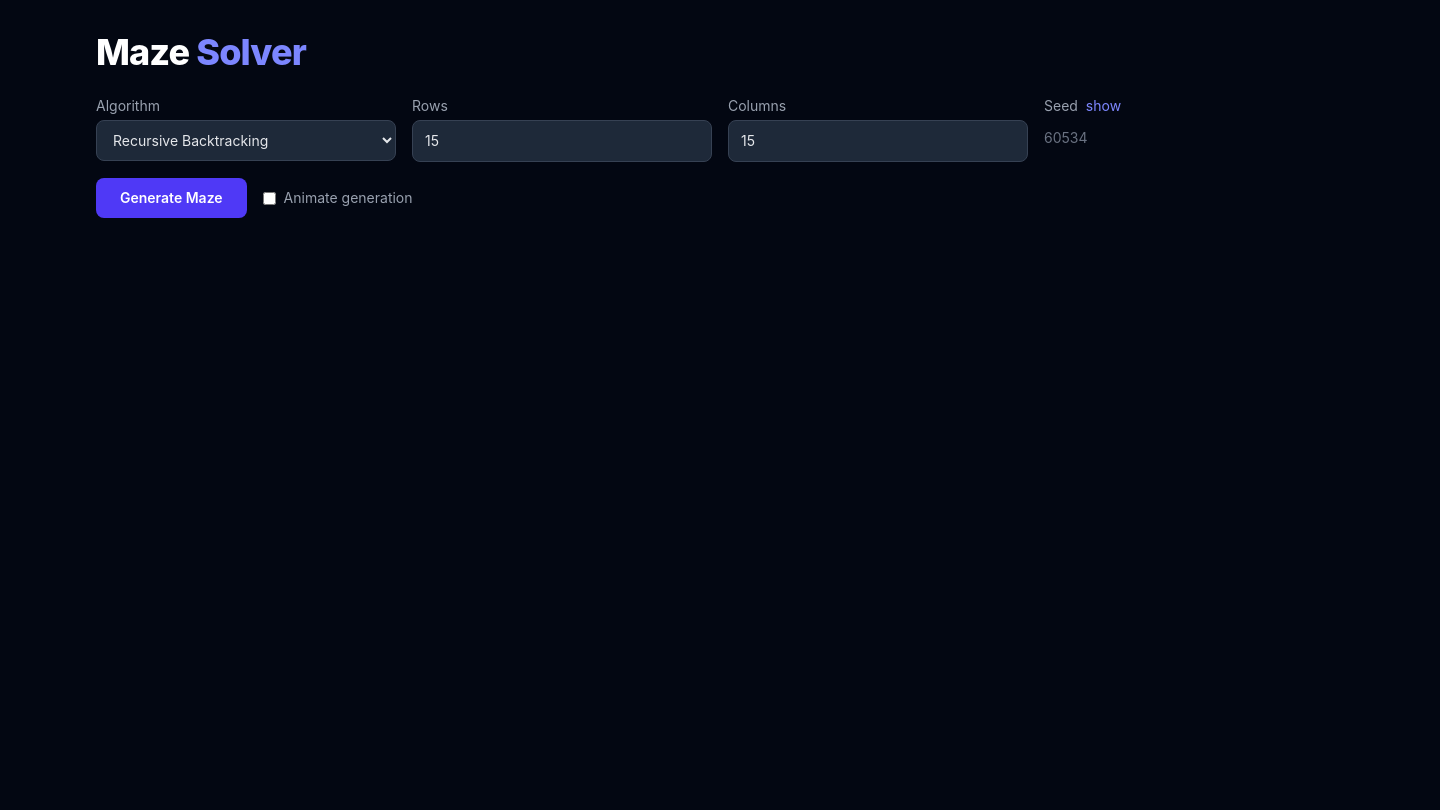
Test: MazeSolver › shows solver controls after generating a maze
The image size is (1440, 810).
Click the button "Generate Maze": (171, 198) [96,178,247,218]
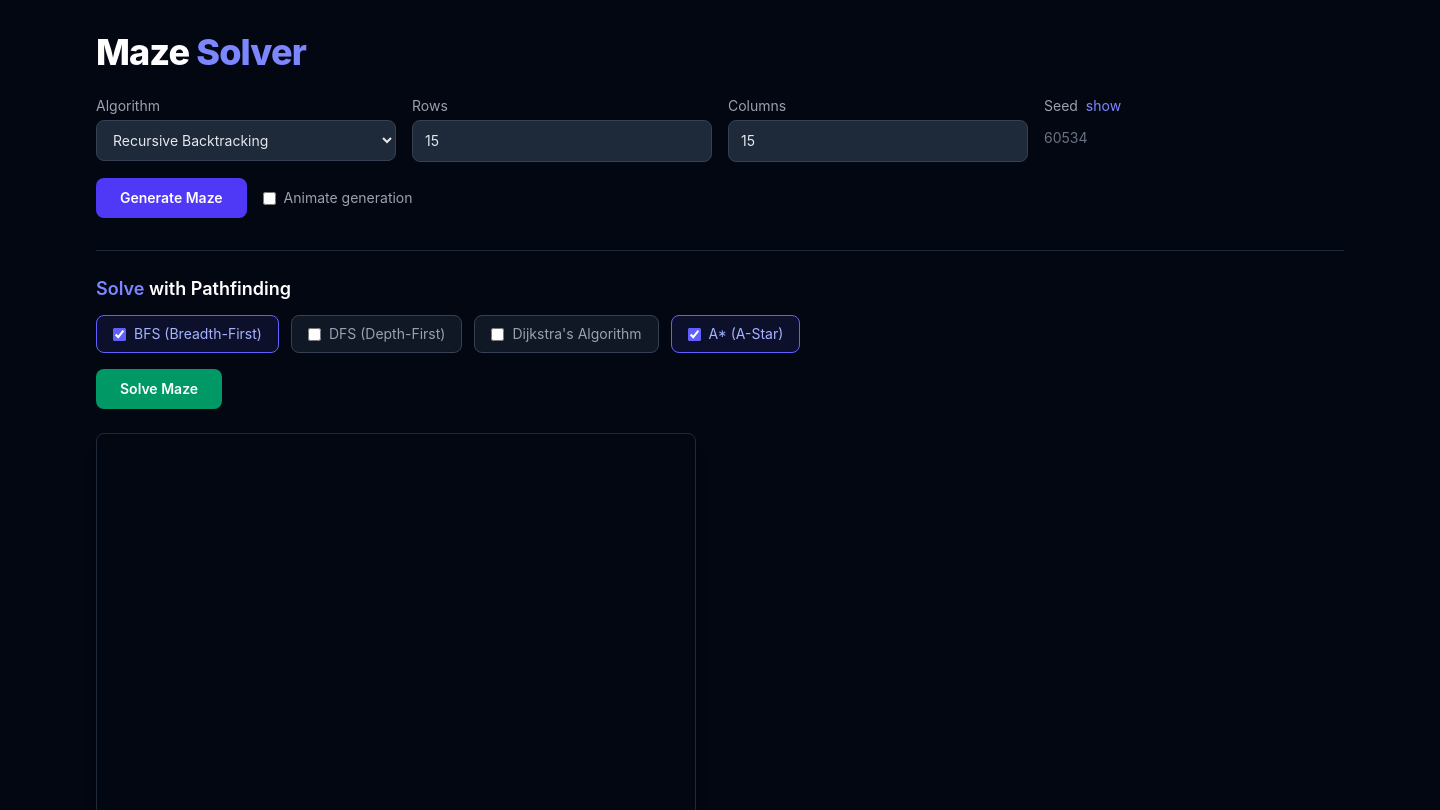
Check: the button "Solve Maze" is shown, box [96,369,222,409]
Check: the text "BFS (Breadth-First)" is shown, box [96,315,279,353]
